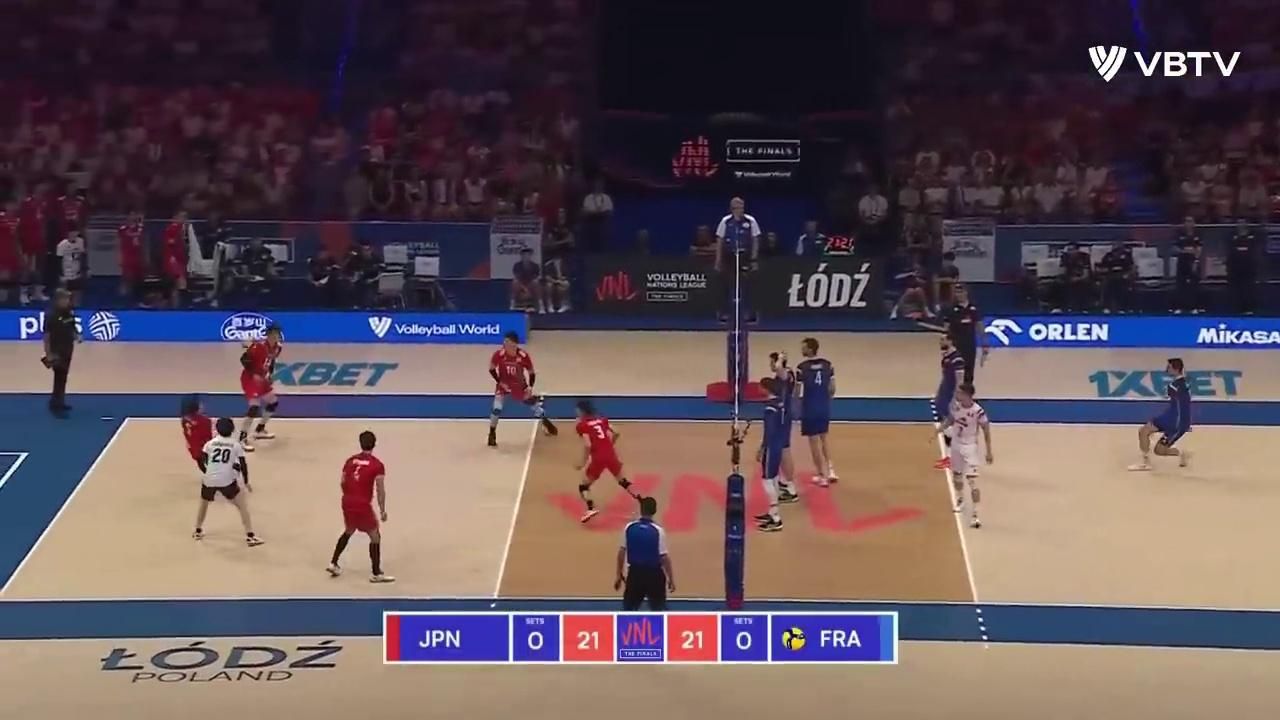ball: (238, 338, 253, 349)
